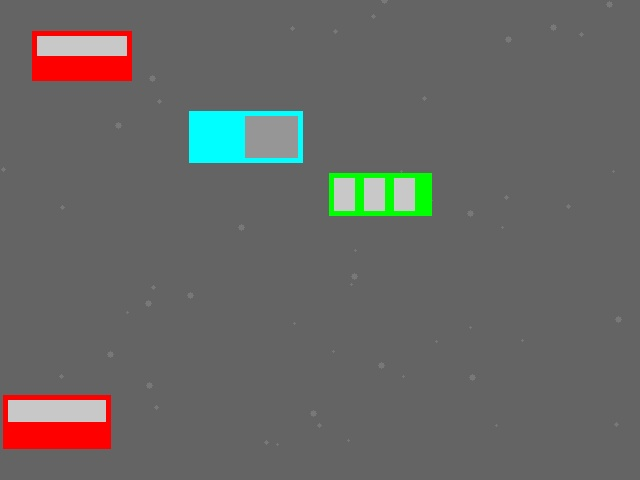bus: (329, 173, 431, 215)
car: (3, 395, 110, 448), (32, 31, 131, 80)
truck: (189, 111, 302, 162)
